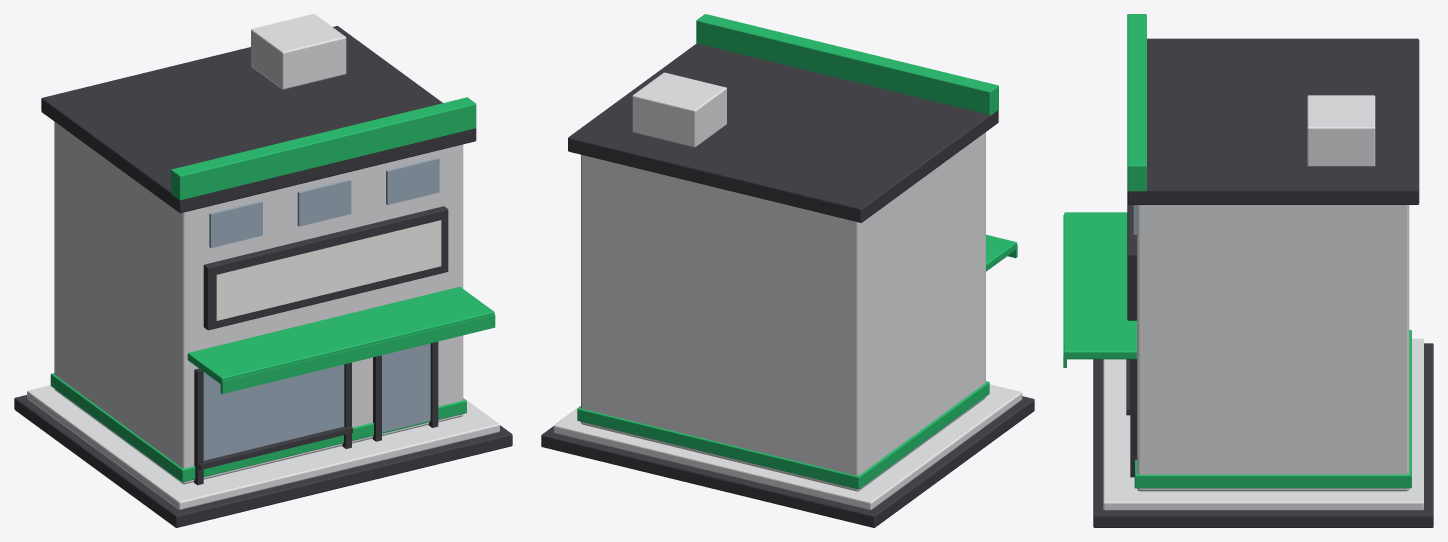
Rendered from shop.glb.
3 renders of one model, left to right at view 1: azimuth 30°, elevation 25°; view 2: azimuth 150°, elevation 25°; view 3: azimuth 270°, elevation 25°, orthographic. The views are drawn at different scales.
Parts seen in each view (by area): view 1: shop, sign_board; view 2: shop; view 3: shop.
Part boxes in pixels (x1,y1,x2,y2): shop: (14,14,512,527); sign_board: (216,220,441,320); shop: (541,14,1034,527); shop: (1063,14,1433,527).
Bounding box in the file's own units: 8.4 × 8.35 × 7.62.
